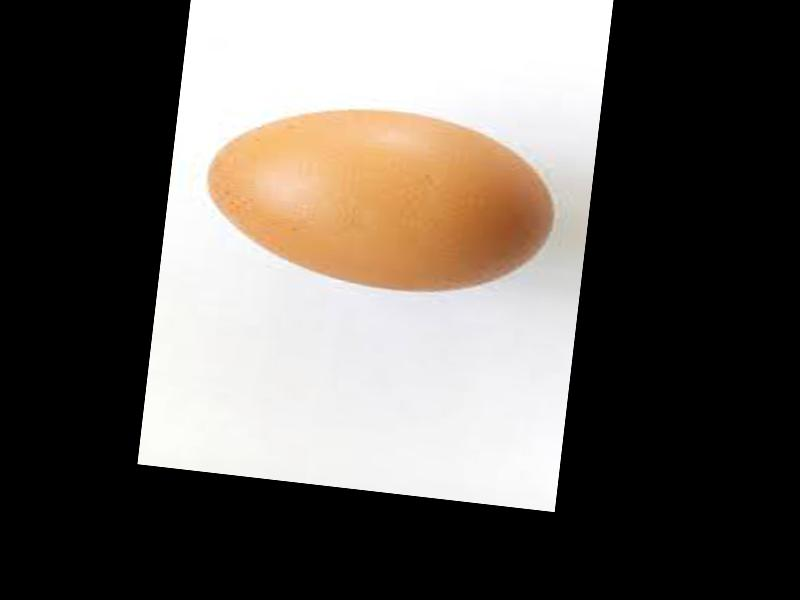Eggs: (197, 92, 561, 307)
